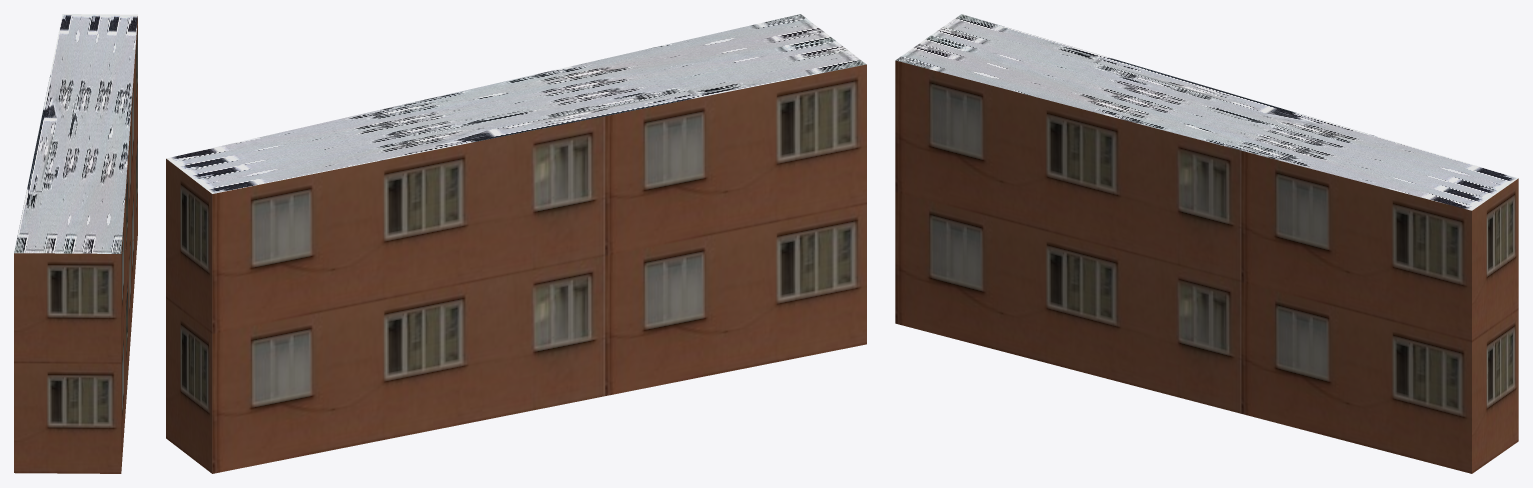
Rendered from ResTex__3854.fbx.
The picture shows the model from 3 angles, left to right: view 1: azimuth 30°, elevation 25°; view 2: azimuth 150°, elevation 25°; view 3: azimuth 270°, elevation 25°; orthographic projection. The views are drawn at different scales.
Visible parts, largest first — view 1: CityEngineMaterial_20_m, CityEngineMaterial_8_m; view 2: CityEngineMaterial_20_m, CityEngineMaterial_8_m; view 3: CityEngineMaterial_20_m, CityEngineMaterial_8_m.
Part boxes in pixels (box(x1,y1,x2,y2)): CityEngineMaterial_20_m: box(14, 16, 137, 473); CityEngineMaterial_8_m: box(14, 14, 137, 253); CityEngineMaterial_20_m: box(166, 64, 866, 473); CityEngineMaterial_8_m: box(166, 14, 866, 193); CityEngineMaterial_20_m: box(895, 60, 1518, 473); CityEngineMaterial_8_m: box(895, 14, 1518, 210).
Size of the model in its own units: 9.63 by 6 by 12.88.
Materials: 2 (2 with a texture image).
